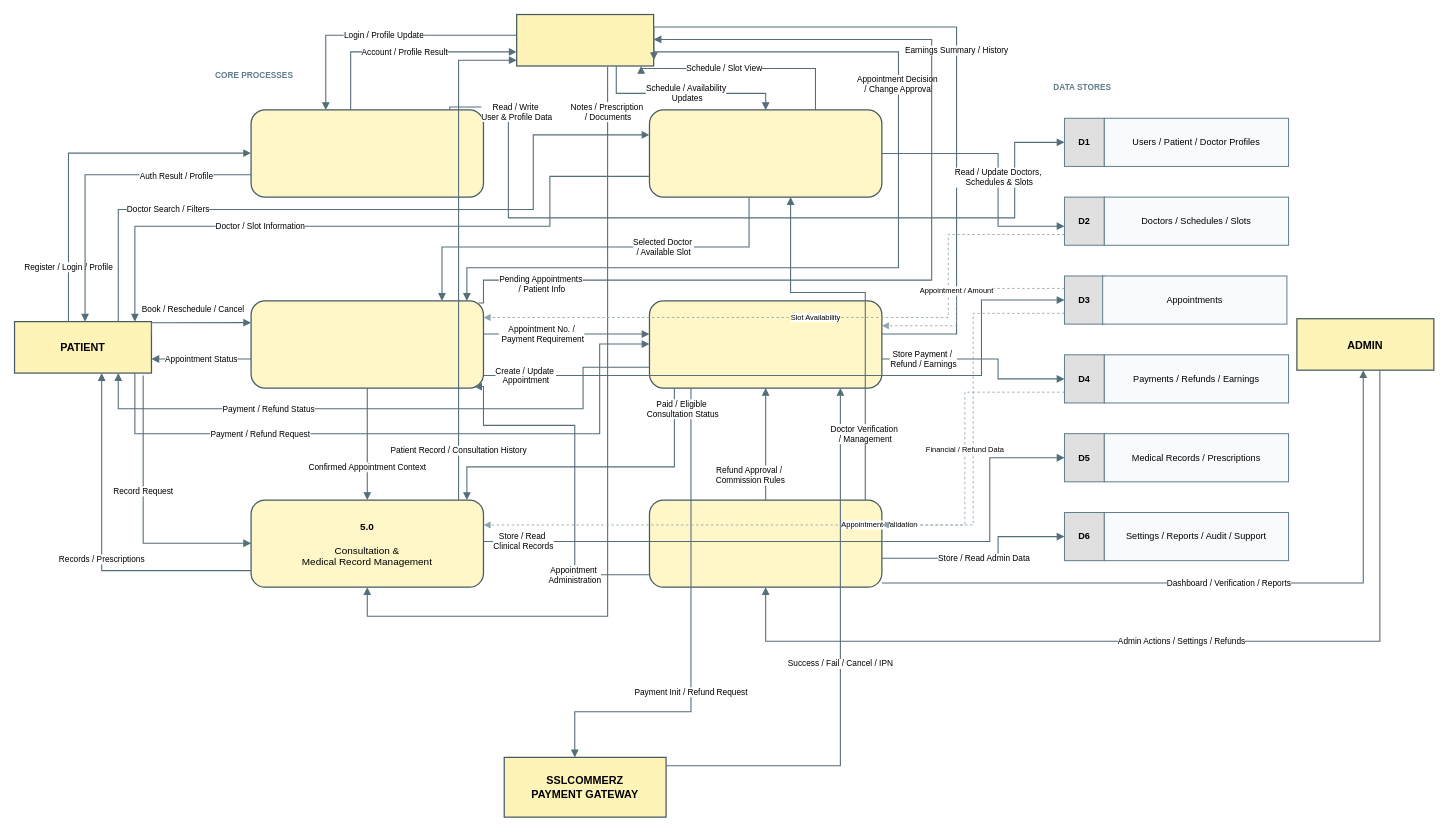
This 1449x832 diagram has some shape labels left out. Each missing label, with the centre of its shape:
1.0 User Authentication & Profile Management: [367,153]
2.0 Doctor Directory, Schedule & Slot Management: [765,153]
3.0 Appointment Booking, Reschedule & Cancellation: [367,344]
4.0 Payment, Refund & Earnings Management: [765,344]
6.0 Administration, Settings & Monitoring: [765,543]
DOCTOR: [585,40]
